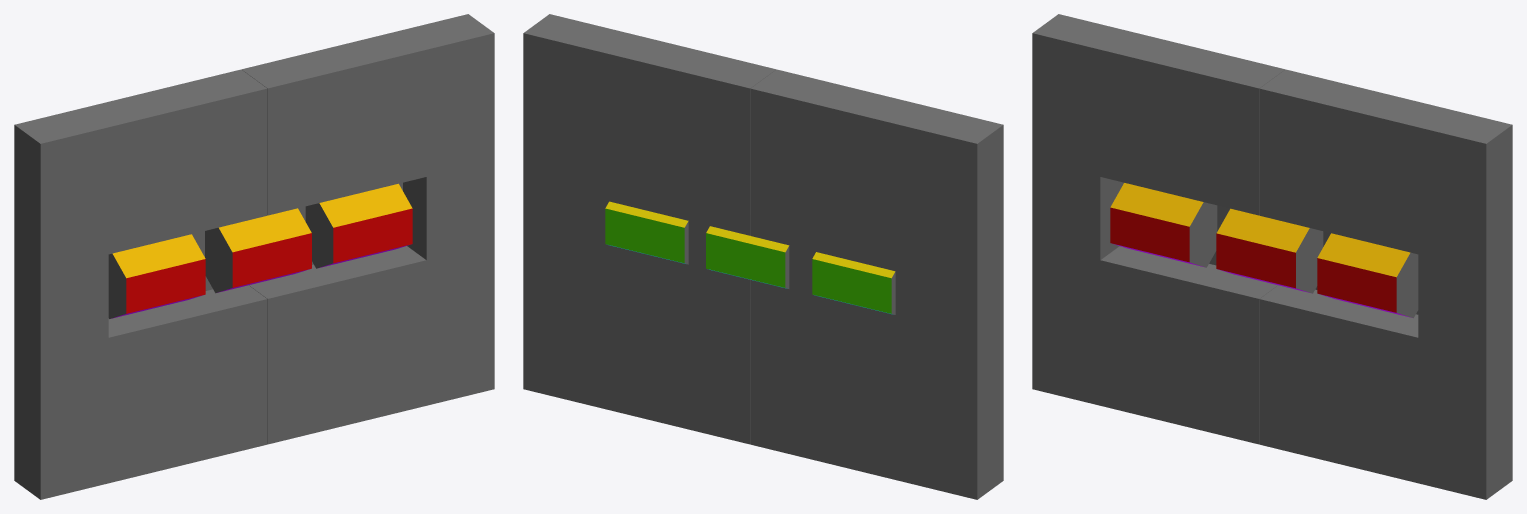
File: PuzzleDoor(Orignal).fbx
3 renders of one model, left to right at view 1: azimuth 30°, elevation 25°; view 2: azimuth 150°, elevation 25°; view 3: azimuth 330°, elevation 25°, orthographic.
Visible parts, largest first — view 1: LeftDoor, RightDoor, Selection2, Selection3, Selection1; view 2: LeftDoor, RightDoor, Selection2, Selection1, Selection3; view 3: RightDoor, LeftDoor, Selection1, Selection2, Selection3.
Part boxes in pixels (x1,y1,x2,y2): LeftDoor: [14, 69, 267, 499]; RightDoor: [242, 14, 494, 444]; Selection2: [205, 208, 311, 293]; Selection3: [305, 183, 412, 268]; Selection1: [108, 234, 205, 318]; LeftDoor: [750, 69, 1003, 499]; RightDoor: [523, 14, 775, 444]; Selection2: [706, 226, 789, 288]; Selection1: [812, 252, 895, 314]; Selection3: [605, 201, 688, 264]; RightDoor: [1259, 69, 1512, 499]; LeftDoor: [1032, 14, 1284, 444]; Selection1: [1110, 183, 1217, 267]; Selection2: [1216, 208, 1323, 293]; Selection3: [1317, 233, 1418, 318].
Size of the model in its own units: 10.01 by 7.5 by 1.3.
